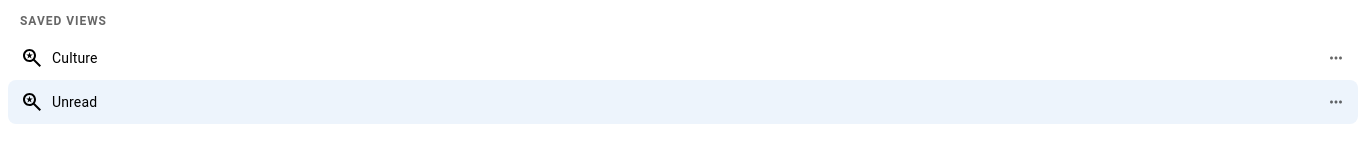
Test: SavedViews › links each view where the app says, marks the active one, and reports a failed delete inline
The image size is (1366, 161).
Click the button named "Options for Culture": [1336, 58] box [1314,36,1358,80]
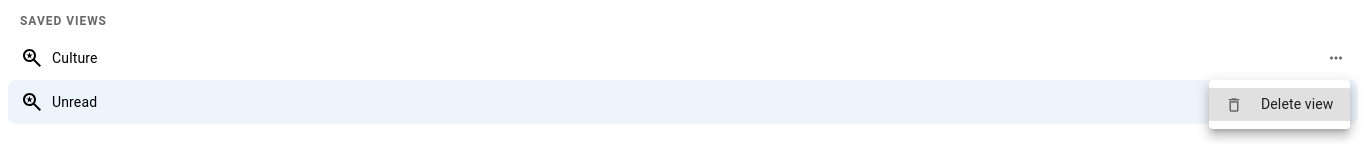
Click the menu item "Delete view": [1279, 104] box [1209,88,1350,121]
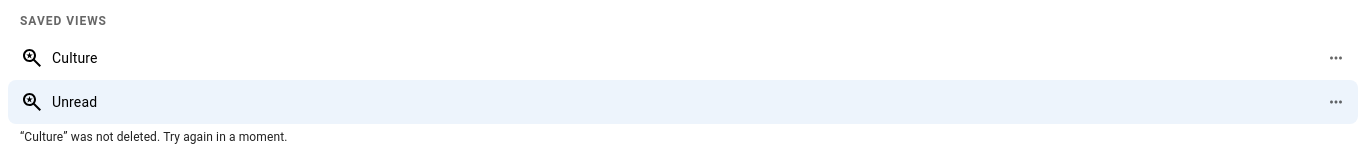
Result: the message shows "“Culture” was not deleted." at [20,130,288,144]
